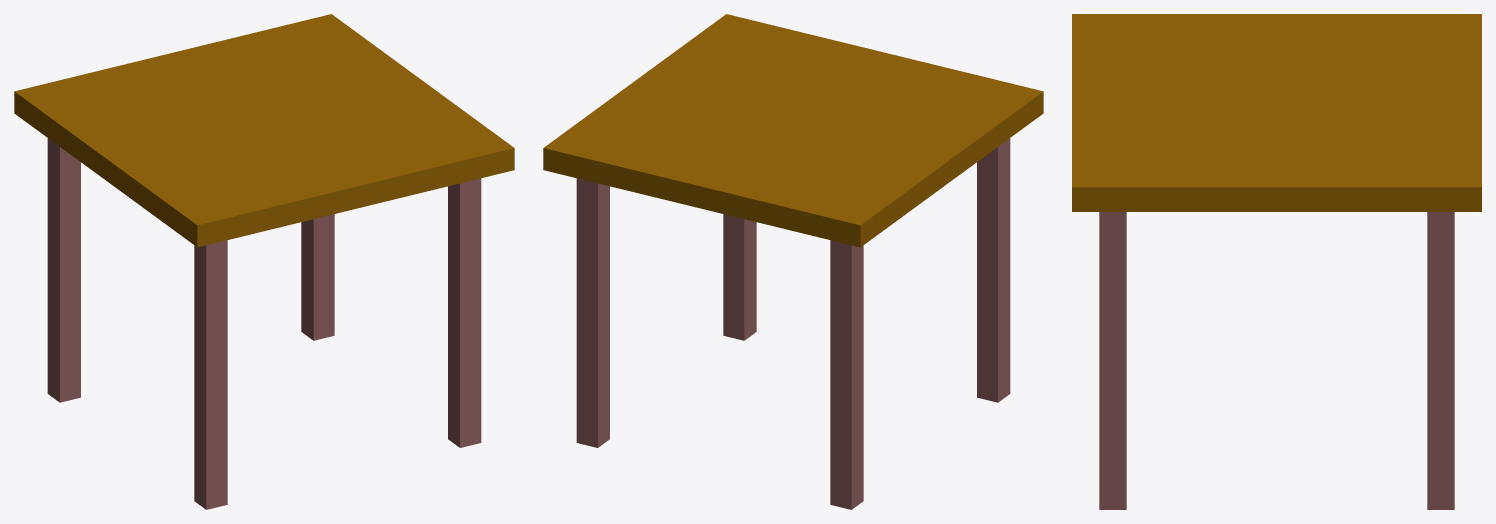
File: chair1.gltf
The picture shows the model from 3 angles, left to right: view 1: azimuth 30°, elevation 25°; view 2: azimuth 150°, elevation 25°; view 3: azimuth 270°, elevation 25°; orthographic projection. The views are drawn at different scales.
Parts seen in each view (by area): view 1: chair1; view 2: chair1; view 3: chair1.
Part boxes in pixels (x1=…): chair1: x1=14, y1=14, x2=514, y2=509; chair1: x1=543, y1=14, x2=1043, y2=509; chair1: x1=1072, y1=14, x2=1481, y2=509.
Bounding box in the file's own units: 3 × 2.7 × 3.
1 material, 1 textured.
